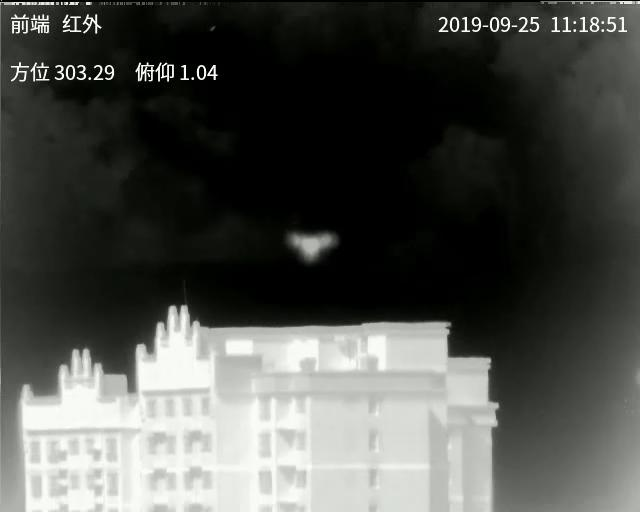uav: (285, 226, 339, 266)
